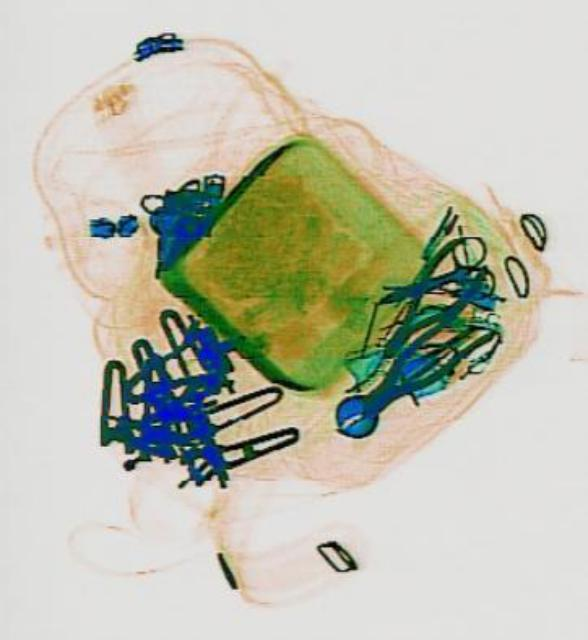Pliers: (348, 296, 491, 426), (359, 233, 490, 371)
Scissors: (361, 226, 496, 328)
